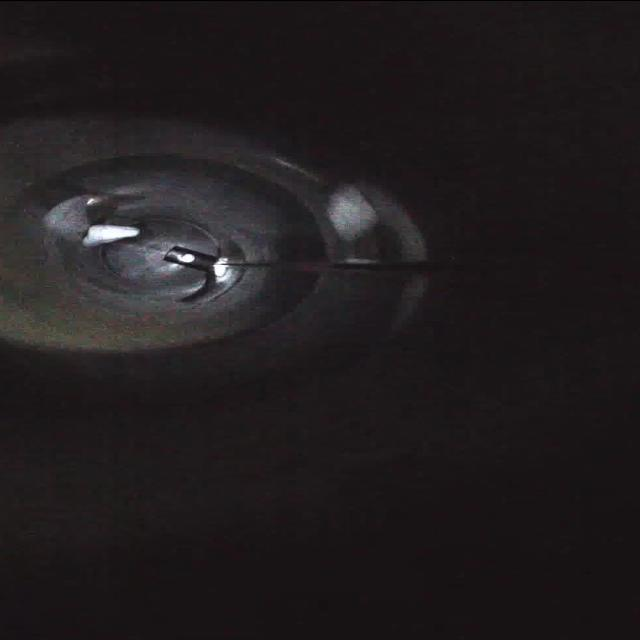impurity: (73, 218, 142, 252)
